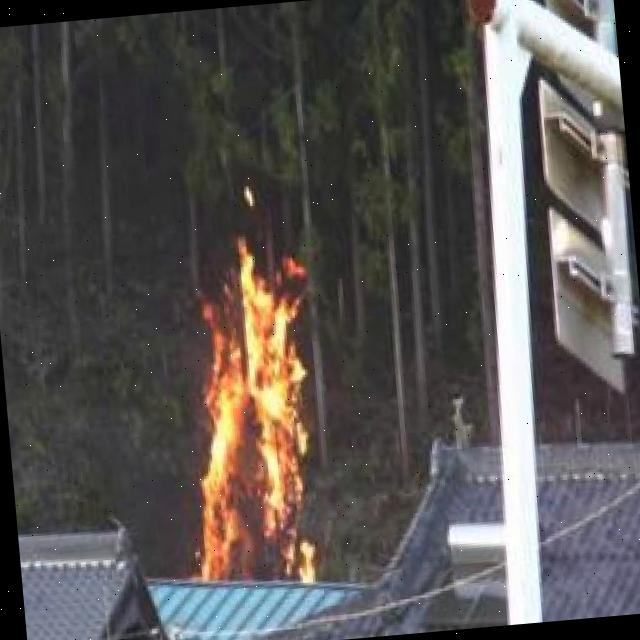fire: (174, 235, 332, 589)
